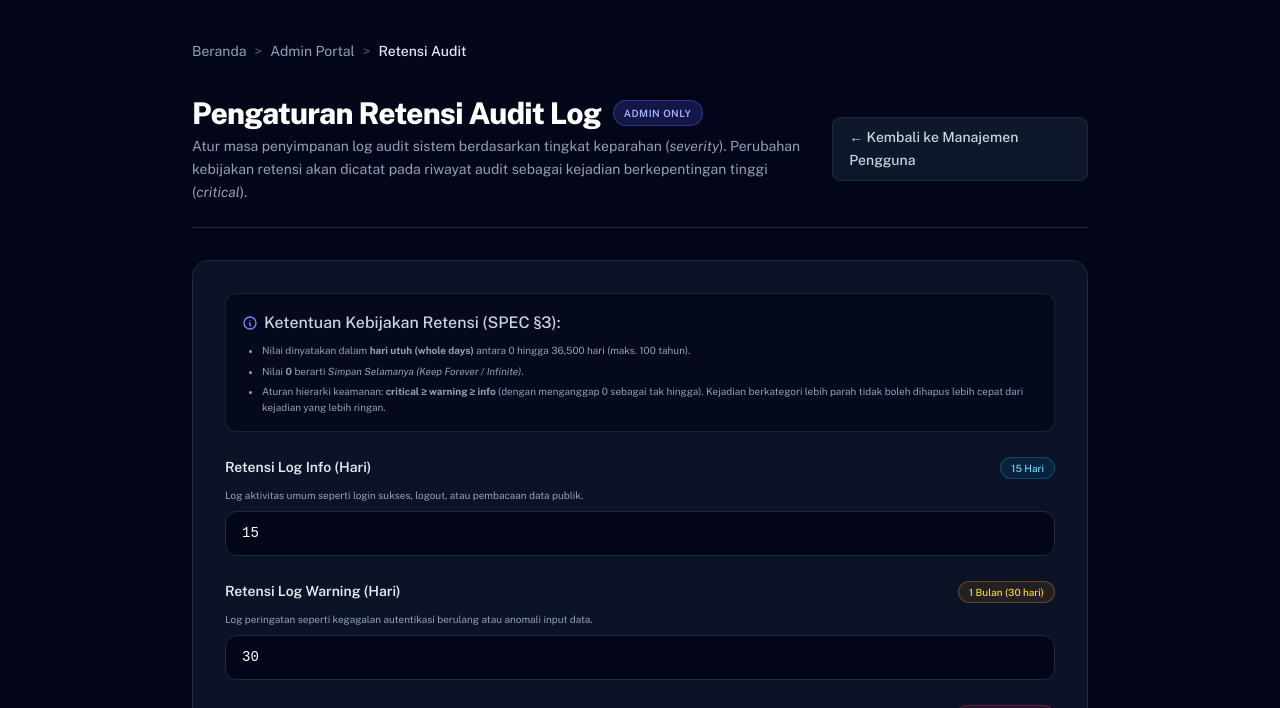
AuditRetentionSettingsView Submission & Reset (Happy Path) › resets form back to stored server policy when Reset button is clicked
Replace the text in the number field with id "retention-info" with "100": coordinates (640, 534) left=225, top=511, right=1055, bottom=556
(page scrolled)
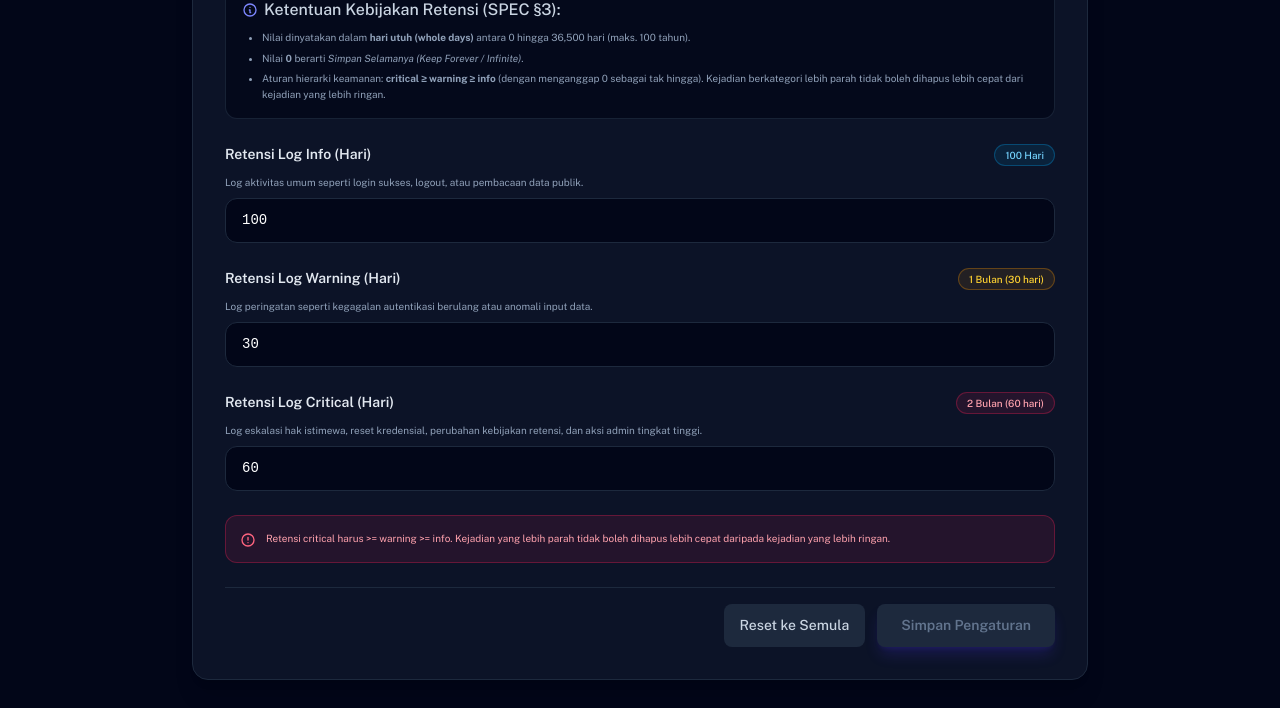
Click Reset
Click the button with test id "reset-btn": coordinates (794, 626) left=724, top=604, right=865, bottom=647
(page scrolled)
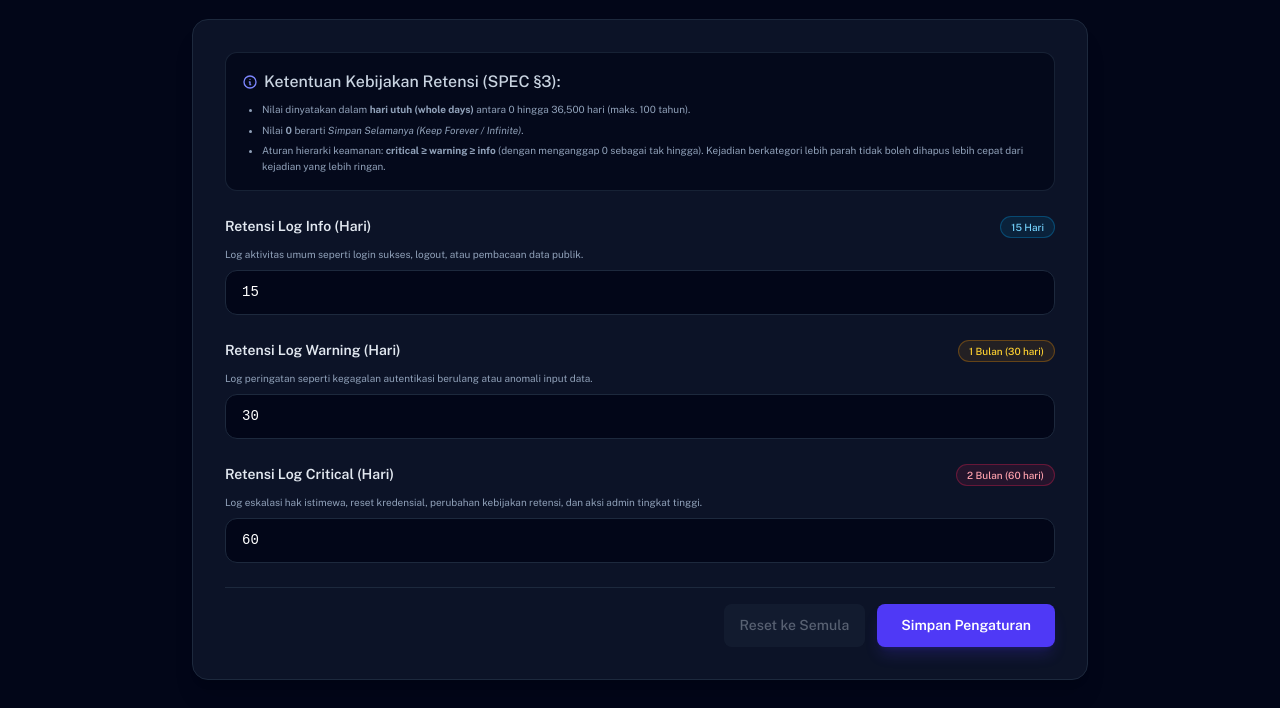
Now the number field with id "retention-info" holds "15", box left=225, top=270, right=1055, bottom=315
